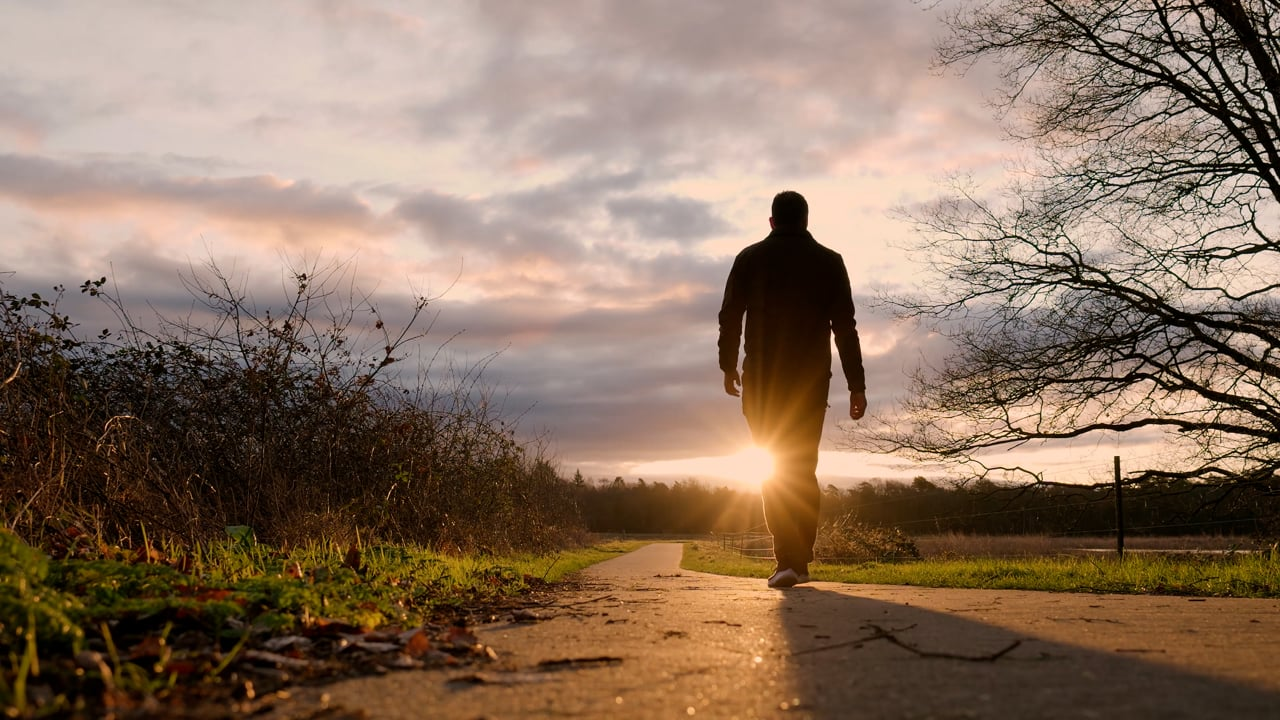Person: (712, 183, 874, 600)
